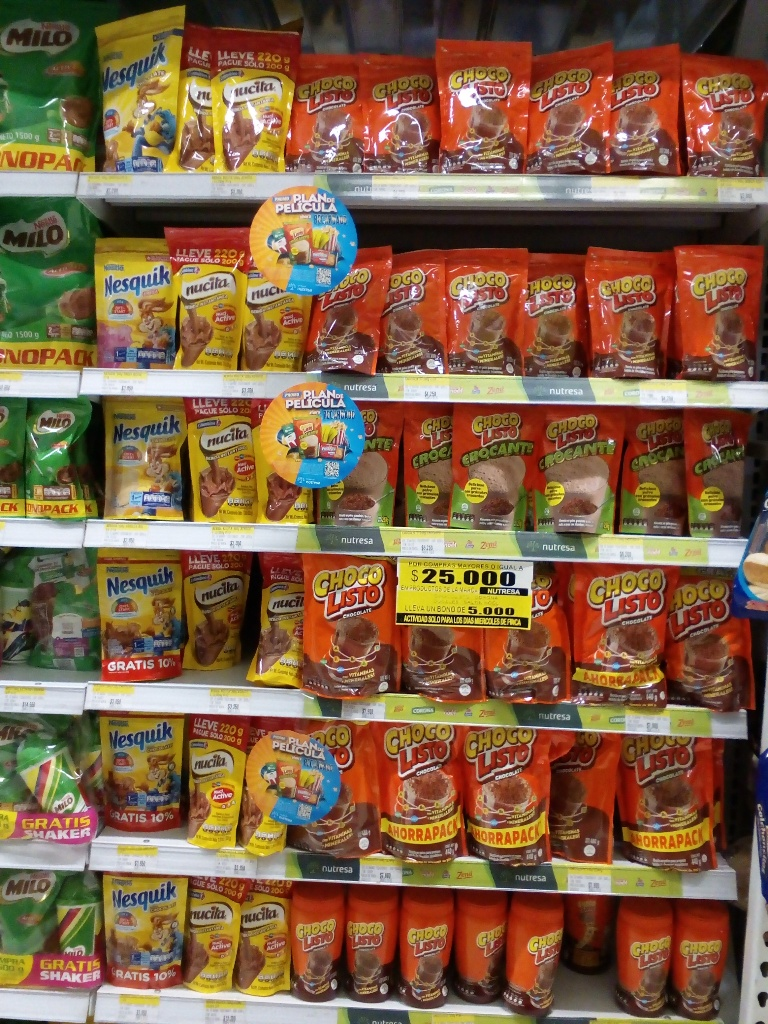COL0170102DYP25000: (683, 408, 757, 540)
COL0170103DYP44000: (296, 720, 384, 853)
COL0170103TRR30000: (286, 879, 342, 1001)
COL0170203DYP25000: (23, 391, 91, 520)
COL0170203DYP50000: (0, 862, 47, 996)
COL0170303DYP20000: (91, 4, 183, 182)
COL0170305DYP20000: (93, 235, 178, 366)
COL0170306DYP20000: (95, 395, 189, 517)
